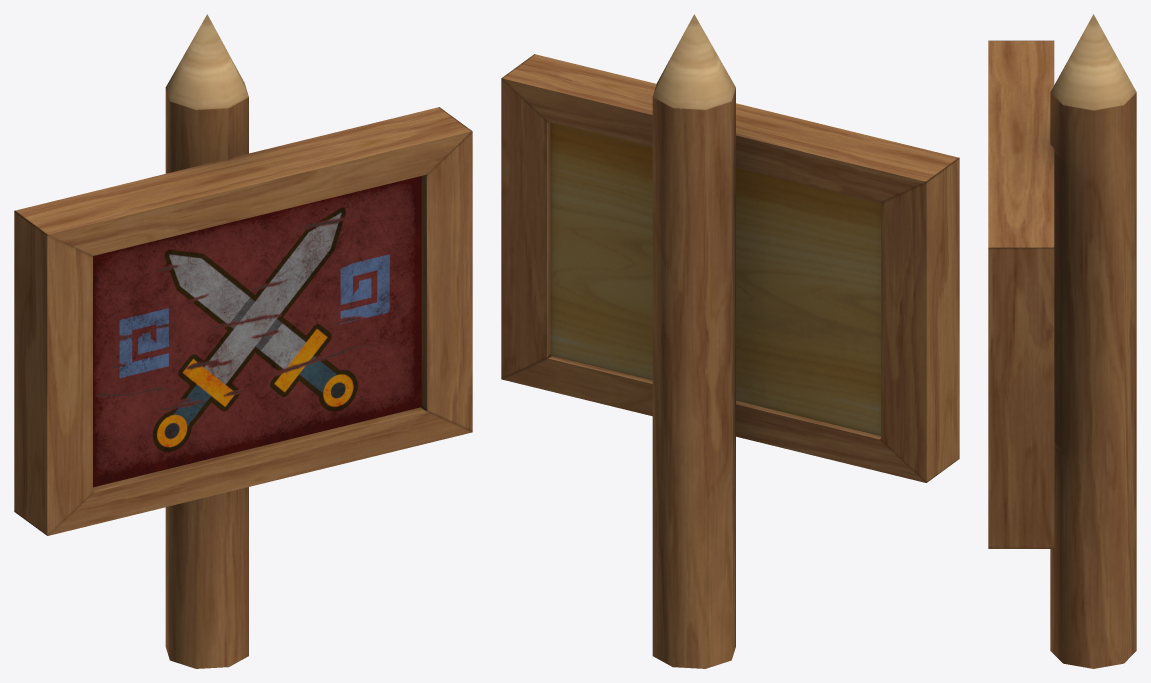
The model's file is sb_obj_outdoor_SignBoard03.fbx.
3 views of the same model, side by side, from view 1: azimuth 30°, elevation 25°; view 2: azimuth 150°, elevation 25°; view 3: azimuth 270°, elevation 25° (orthographic).
Visible parts, largest first — view 1: 03; view 2: 03; view 3: 03.
Boxes of the visible parts, <box> form: 03: <box>14,14,472,668</box>; 03: <box>501,14,959,668</box>; 03: <box>988,14,1136,668</box>.
Bounding box in the file's own units: 0.8261 × 1.18 × 0.2501.
